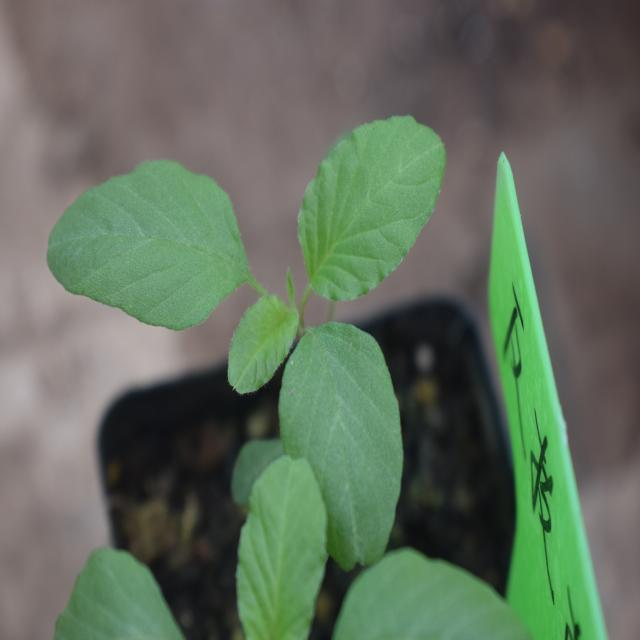pigweed: (46, 109, 445, 532)
